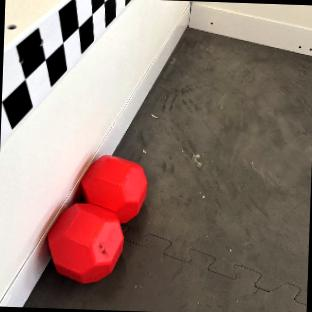V5_RED: (45, 154, 147, 283)
